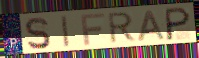A: (137, 9, 166, 43)
F: (79, 12, 106, 47)
I: (61, 14, 71, 49)
P: (165, 6, 192, 42)
R: (107, 11, 137, 45)
S: (23, 16, 52, 51)
